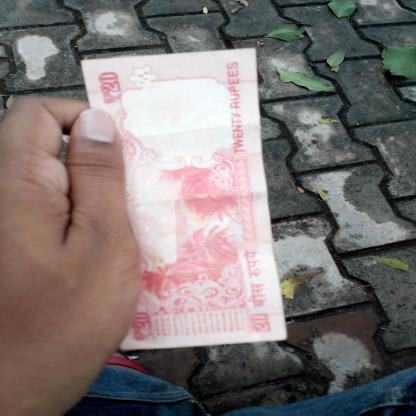Old20Back: (81, 48, 288, 350)
